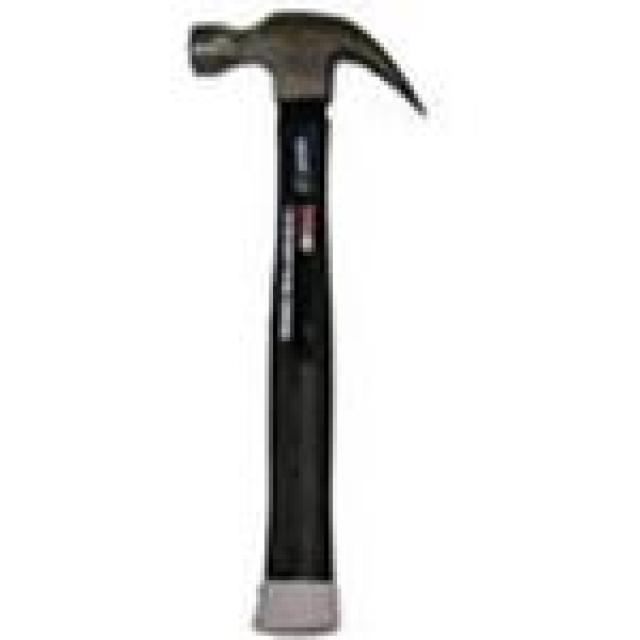hammer: (127, 0, 461, 640)
